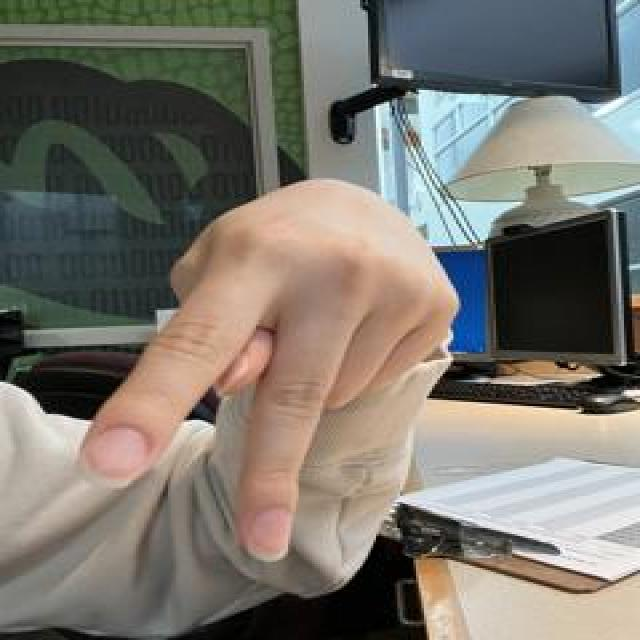P: (67, 173, 464, 567)
